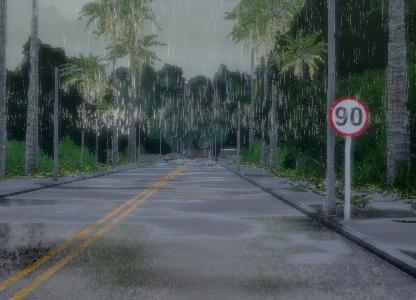Speed_90: (328, 94, 370, 138)
